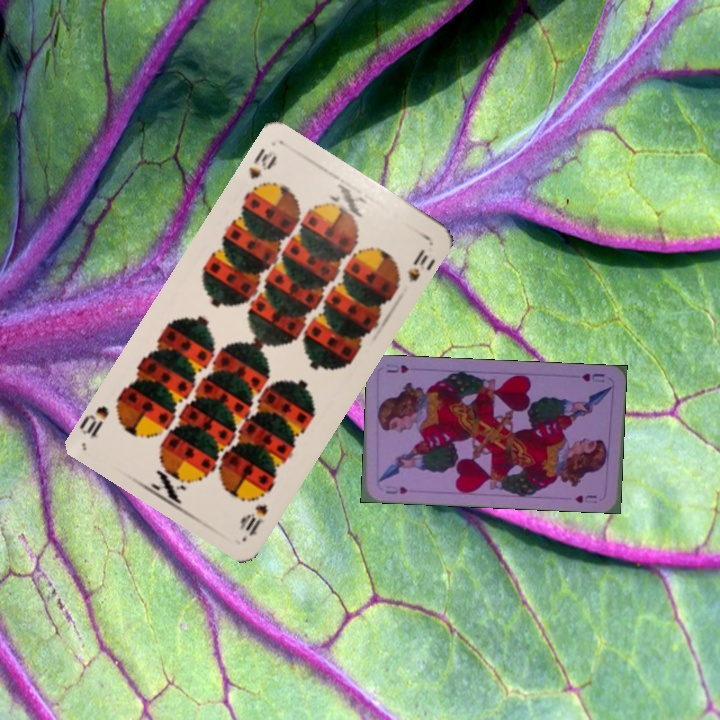HU: (577, 369, 607, 385), (382, 481, 411, 497)
S10: (243, 144, 280, 197), (236, 500, 271, 539)
